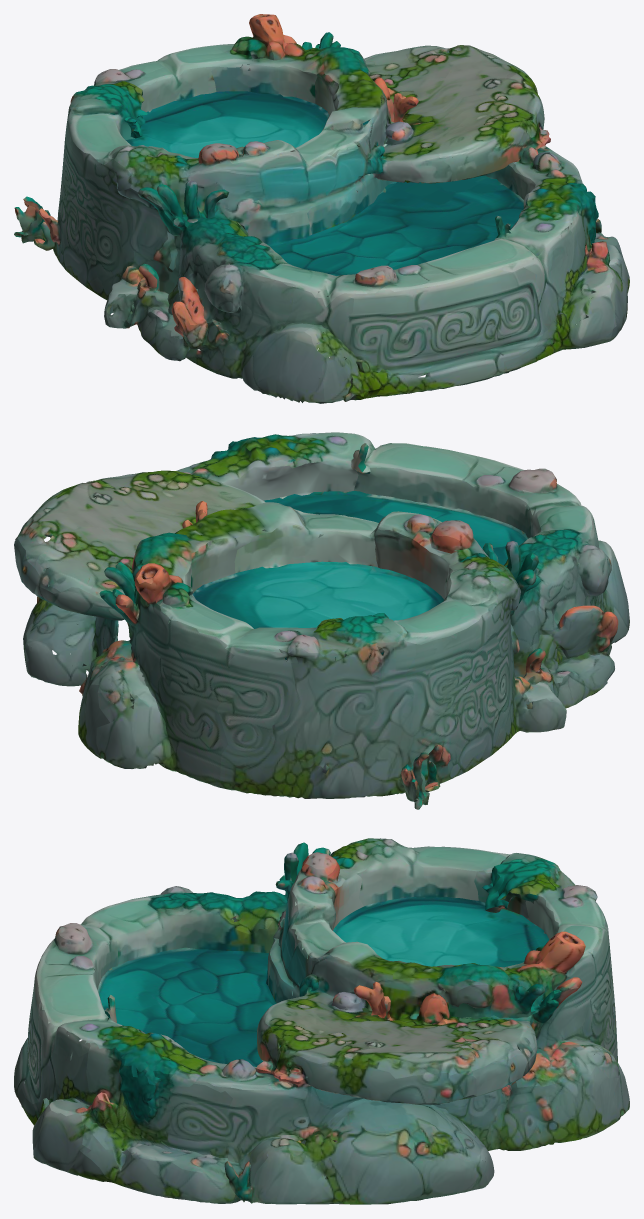
File: ocean_tide_pools.glb
3 renders of one model, top to bottom at view 1: azimuth 30°, elevation 25°; view 2: azimuth 150°, elevation 25°; view 3: azimuth 270°, elevation 25°, orthographic. The views are drawn at different scales.
Parts seen in each view (by area): view 1: textured_mesh.obj; view 2: textured_mesh.obj; view 3: textured_mesh.obj.
Boxes of the visible parts, box(x1,y1,x2,y2) form: textured_mesh.obj: box(14, 14, 629, 403); textured_mesh.obj: box(14, 432, 629, 809); textured_mesh.obj: box(14, 838, 629, 1204).
Bounding box in the file's own units: 1.81 × 0.6261 × 1.99.
1 material, 1 textured.
